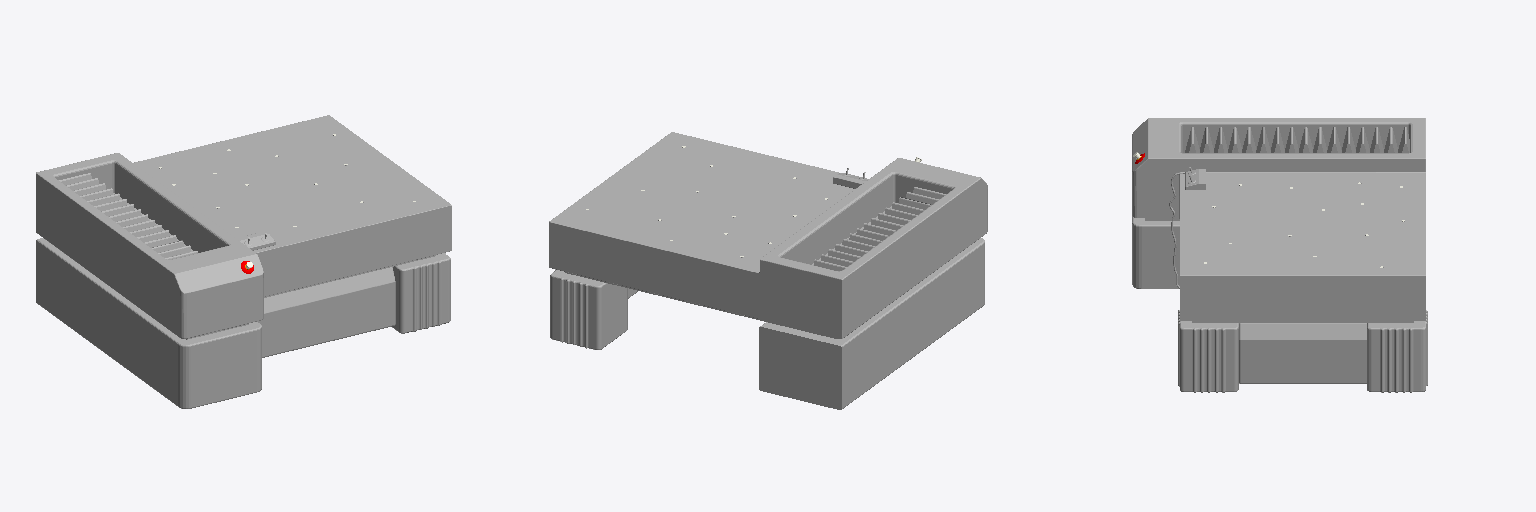
Rendered from BATI.obj.
The picture shows the model from 3 angles: view 1: azimuth 30°, elevation 25°; view 2: azimuth 150°, elevation 25°; view 3: azimuth 270°, elevation 25°; orthographic projection.
Parts seen in each view (by area): view 1: TABLE_cmm_asm_asm.002; view 2: TABLE_cmm_asm_asm.002; view 3: TABLE_cmm_asm_asm.002.
Boxes of the visible parts, <box> form: TABLE_cmm_asm_asm.002: <box>36,115,451,408</box>; TABLE_cmm_asm_asm.002: <box>549,132,987,409</box>; TABLE_cmm_asm_asm.002: <box>1132,118,1427,392</box>.
Bounding box in the file's own units: 1.44 × 0.6171 × 1.25.